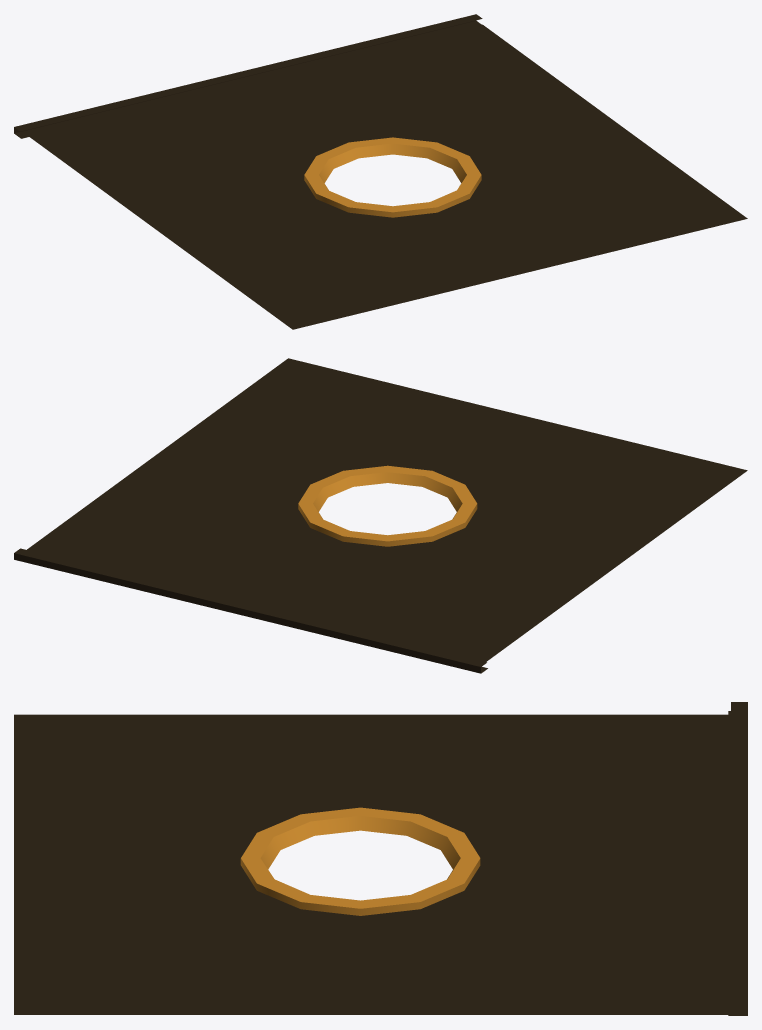
File: floor_hole 1.FBX
3 renders of one model, top to bottom at view 1: azimuth 30°, elevation 25°; view 2: azimuth 150°, elevation 25°; view 3: azimuth 270°, elevation 25°, orthographic. The views are drawn at different scales.
Visible parts, largest first — view 1: floor_hole; view 2: floor_hole; view 3: floor_hole.
Boxes of the visible parts, x1,y1,x2,y2 form: floor_hole: (14,14,747,329); floor_hole: (14,358,747,673); floor_hole: (14,702,747,1015).
Size of the model in its own units: 101 by 2.1 by 102.
